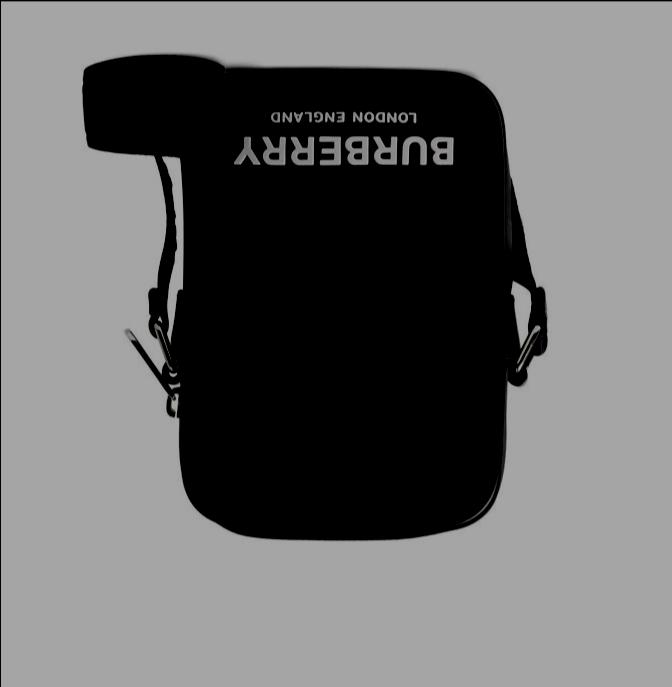BURBERRY: (233, 134, 453, 164)
